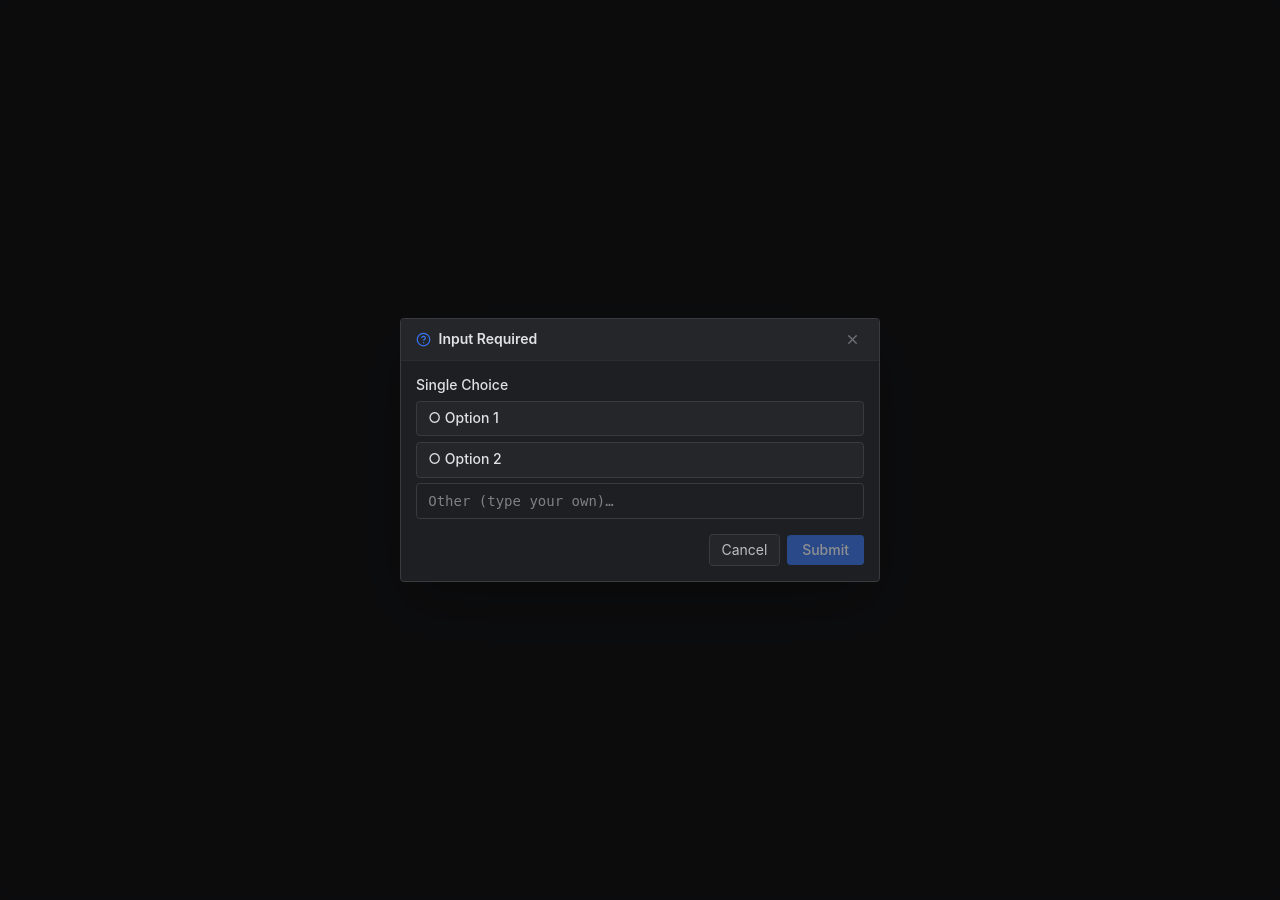
UiRequestDialog › single-select: picking an option clears custom text and vice versa
Click the button "○ Option 1". click: (464, 418)
box: left=416, top=401, right=864, bottom=436
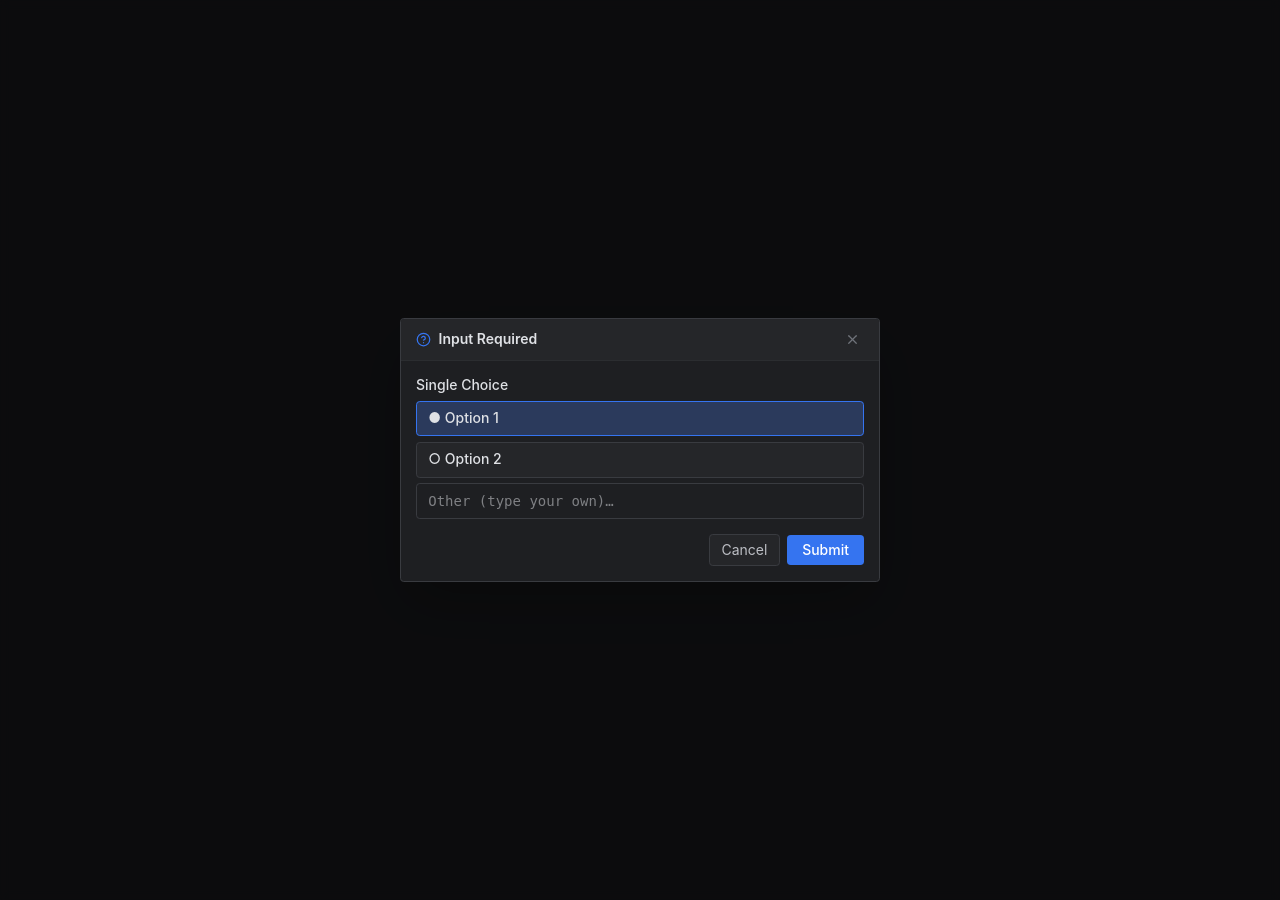
expect the button "● Option 1" is shown: met, box left=416, top=401, right=864, bottom=436
Type "custom answer" into the field with placeholder "Other (type your own)…". click: (640, 501)
box: left=416, top=483, right=864, bottom=519
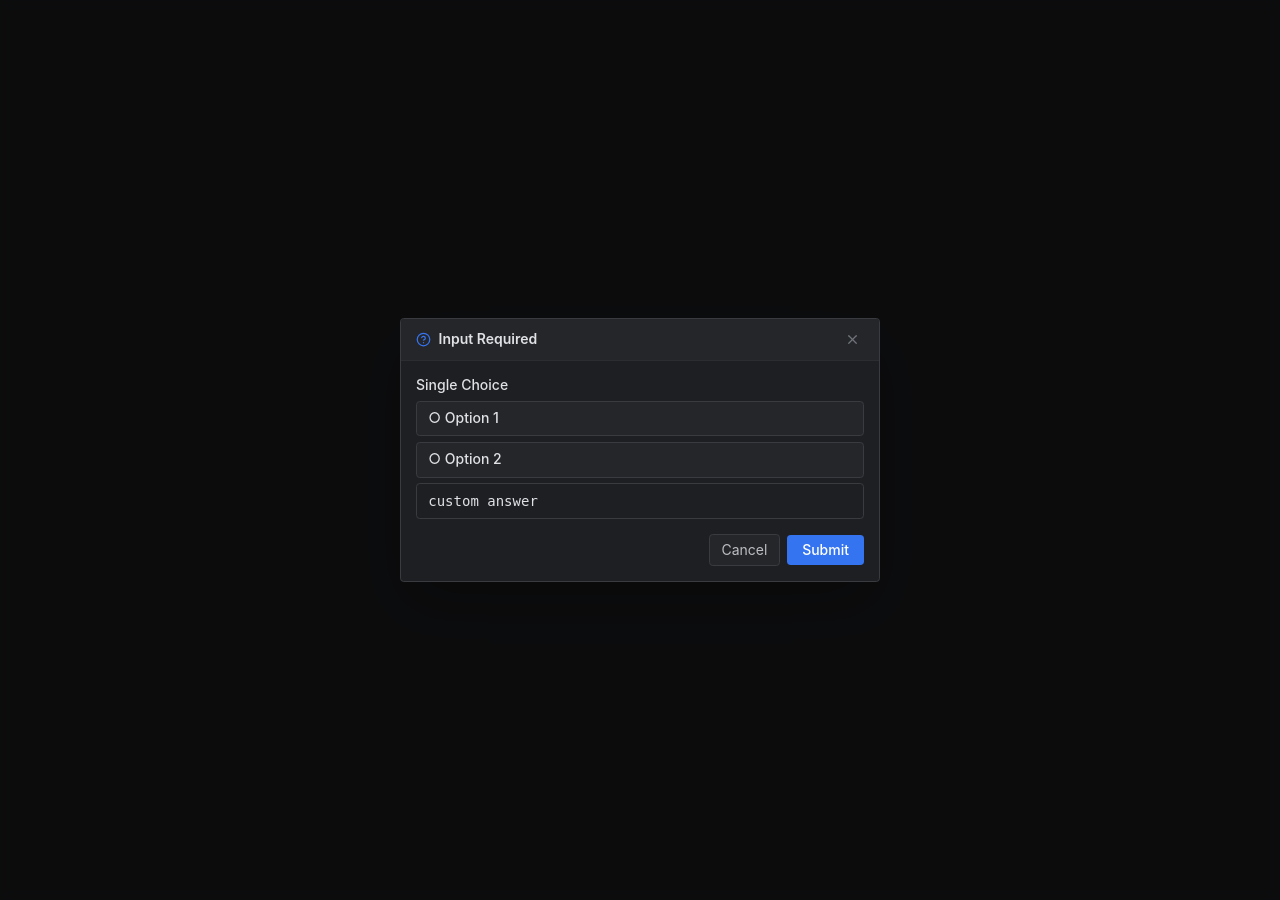
expect the button "○ Option 1" is shown: met
Click the button "○ Option 1". click: (464, 418)
box: left=416, top=401, right=864, bottom=436
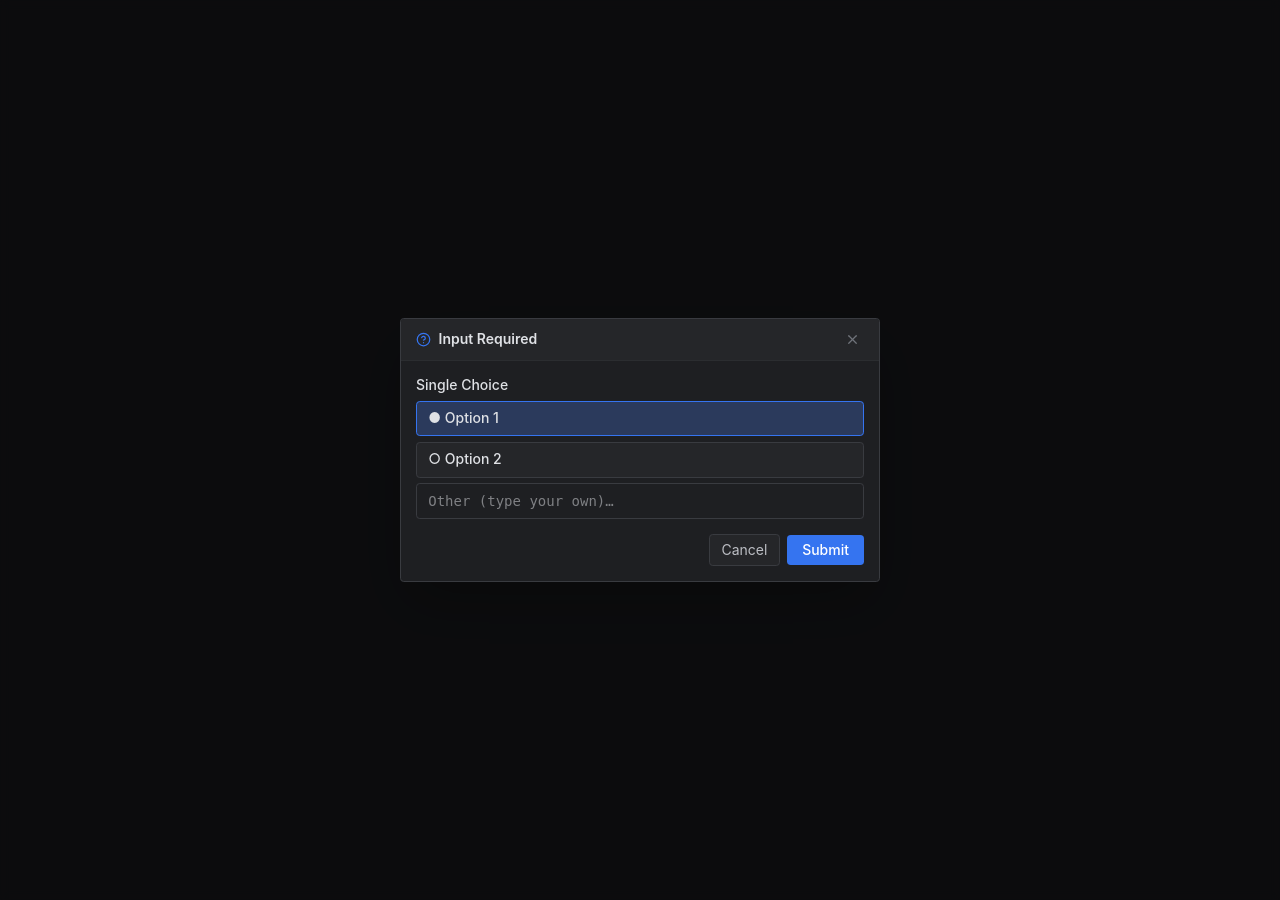
expect the button "● Option 1" is shown: met, box left=416, top=401, right=864, bottom=436
expect the field with placeholder "Other (type your own)…" is empty: met, box left=416, top=483, right=864, bottom=519
